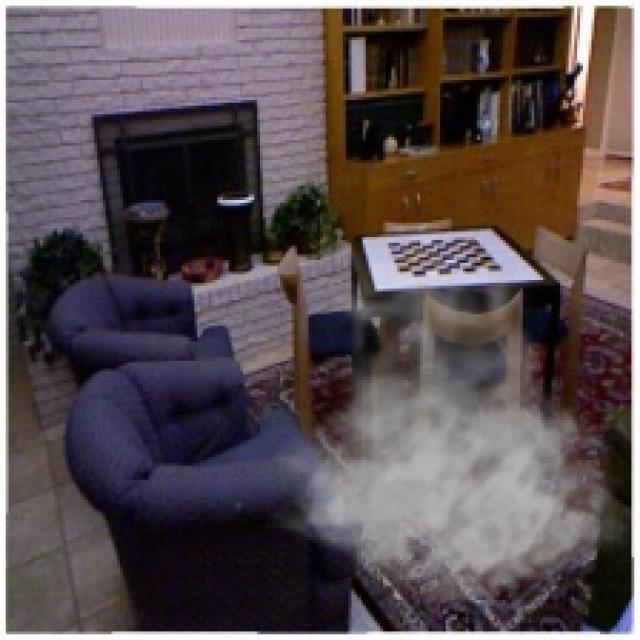Smoke: (266, 248, 628, 606)
